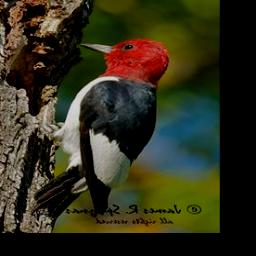Woodpecker: (26, 36, 169, 220)
